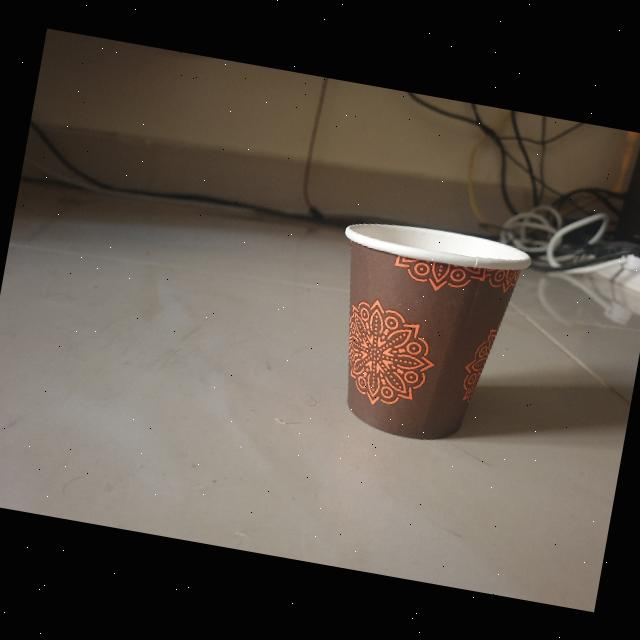trash: (303, 206, 536, 466)
